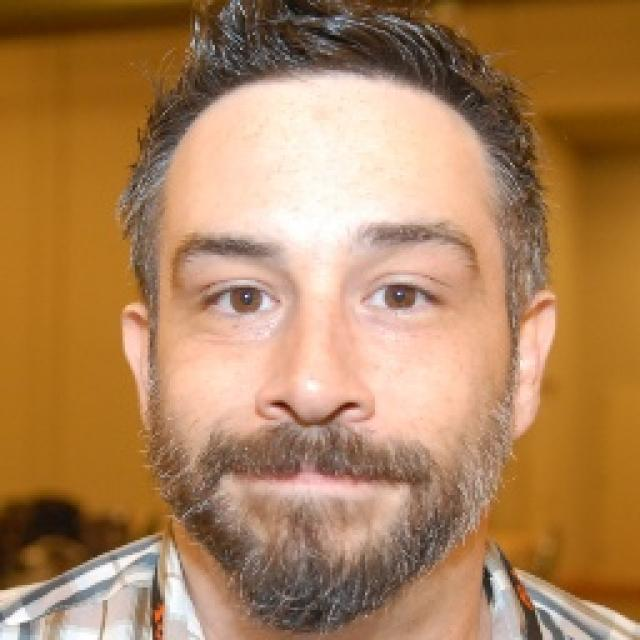earlobe: (511, 402, 541, 446), (138, 394, 150, 431)
eye: (203, 283, 279, 315), (361, 282, 438, 312)
nose: (259, 405, 376, 454)
wholeear: (511, 292, 560, 446), (122, 304, 154, 433)
